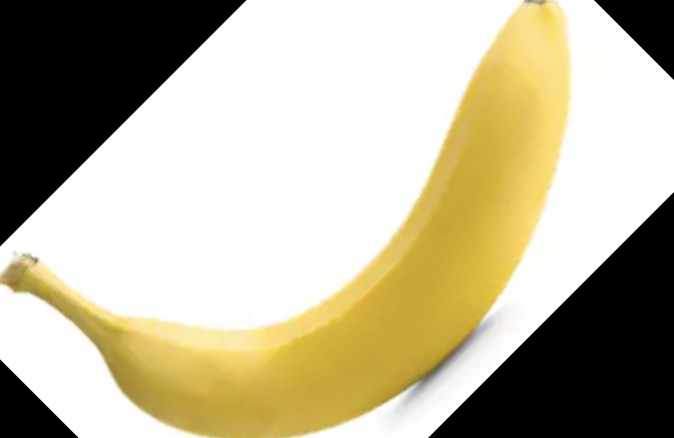fresh_banana: (4, 1, 571, 438)
